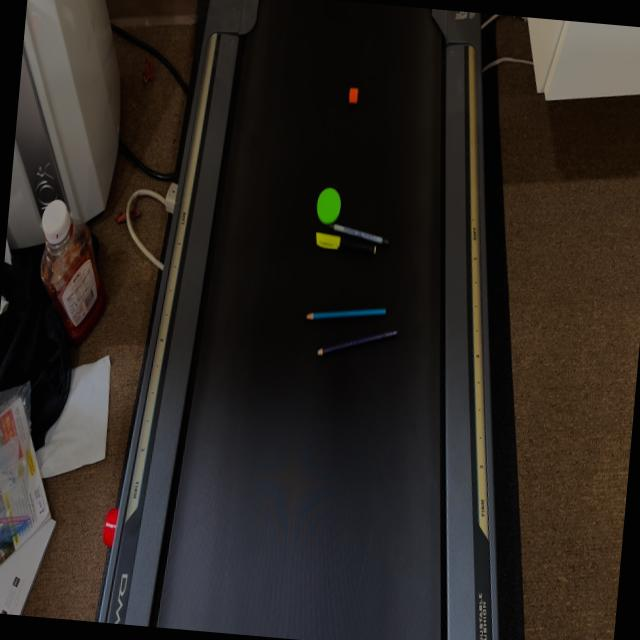Trash: (298, 288, 403, 376), (304, 178, 398, 268), (345, 80, 359, 112)
